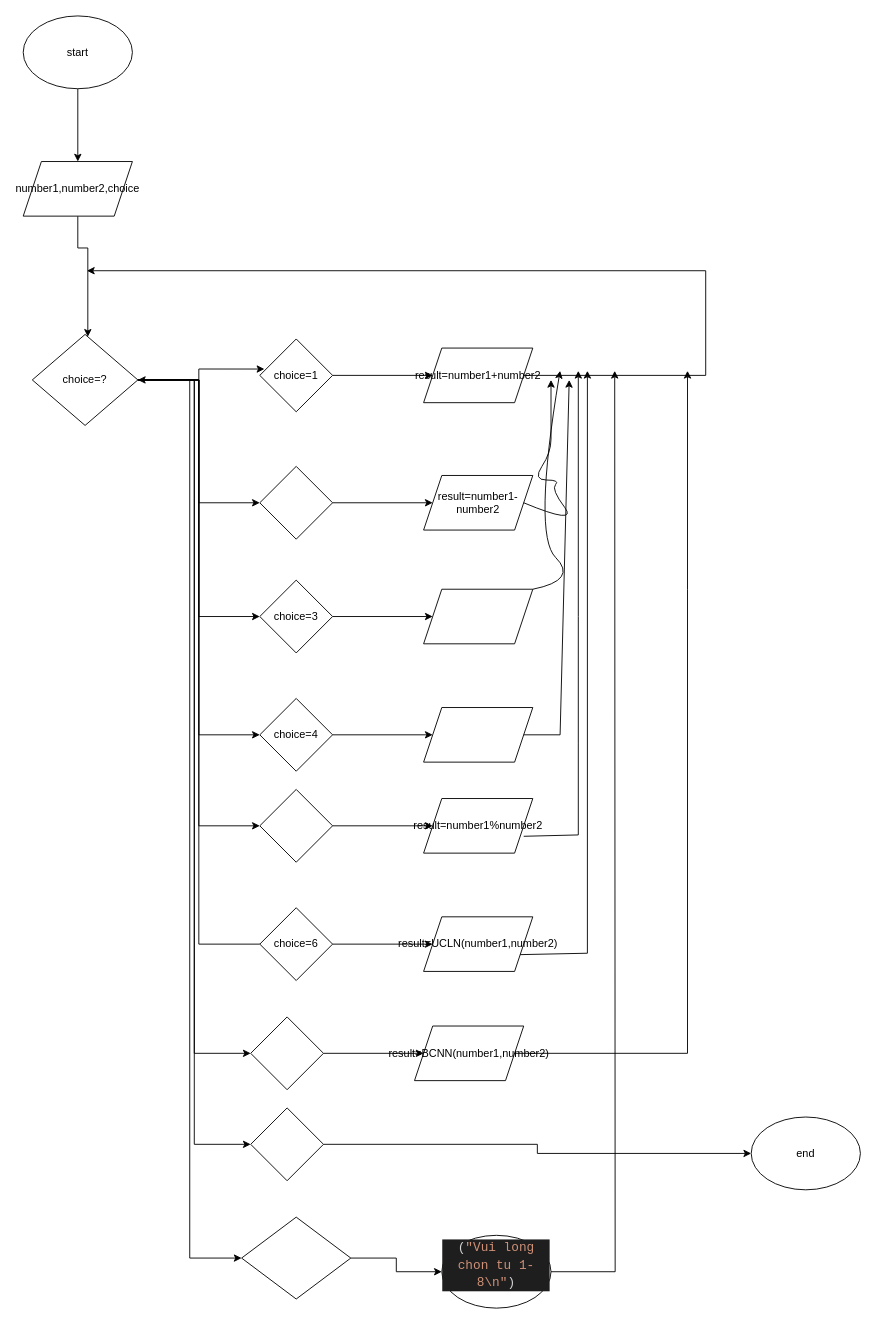
Some shapes in this 876 by 1333 pixel diagram are drawn without their labels. The shapes that lost their labels are listed below. From the top down, each one's centre as x and y in pixels, then its label:
the point at 296,502: choice=2
the point at 478,616: result=number1*number2
the point at 478,734: result=number1/number2
the point at 296,825: choice=5
the point at 287,1053: choice=7
the point at 287,1144: choice=8
the point at 296,1257: choice: default
